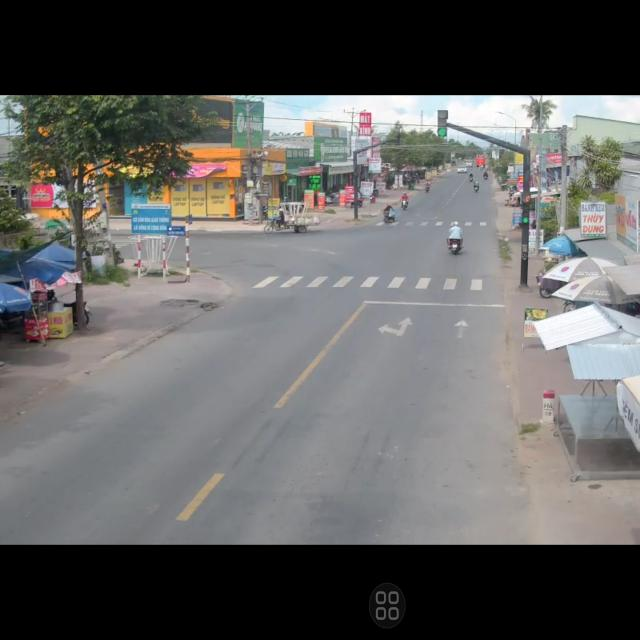Green: (436, 107, 450, 144), (520, 204, 531, 236)
